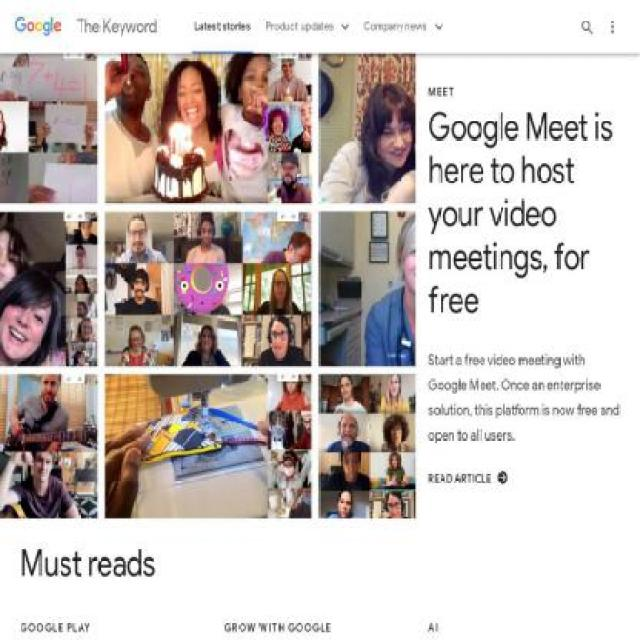button: (20, 54, 417, 518), (428, 106, 620, 488), (258, 0, 357, 54), (356, 0, 450, 54), (187, 0, 259, 54), (77, 16, 157, 38), (575, 10, 600, 44), (600, 10, 625, 44)
